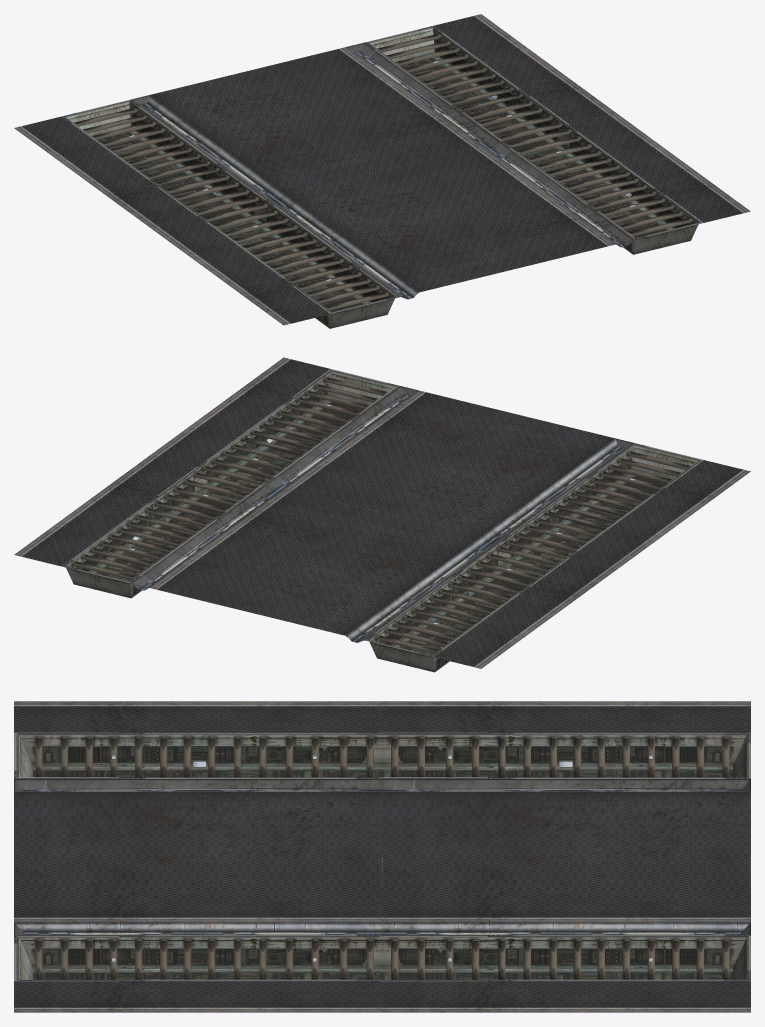
File: FLO_FloorMixed11_5x5.FBX
3 renders of one model, top to bottom at view 1: azimuth 30°, elevation 25°; view 2: azimuth 150°, elevation 25°; view 3: azimuth 270°, elevation 25°, orthographic. The views are drawn at different scales.
Visible parts, largest first — view 1: FLO_FloorMixed11_5x5; view 2: FLO_FloorMixed11_5x5; view 3: FLO_FloorMixed11_5x5.
Boxes of the visible parts, bbox=[...] form: FLO_FloorMixed11_5x5: bbox=[14, 14, 750, 328]; FLO_FloorMixed11_5x5: bbox=[14, 357, 750, 672]; FLO_FloorMixed11_5x5: bbox=[14, 701, 750, 1012].
Size of the model in its own units: 500 by 21.89 by 500.
Materials: 1 (1 with a texture image).
